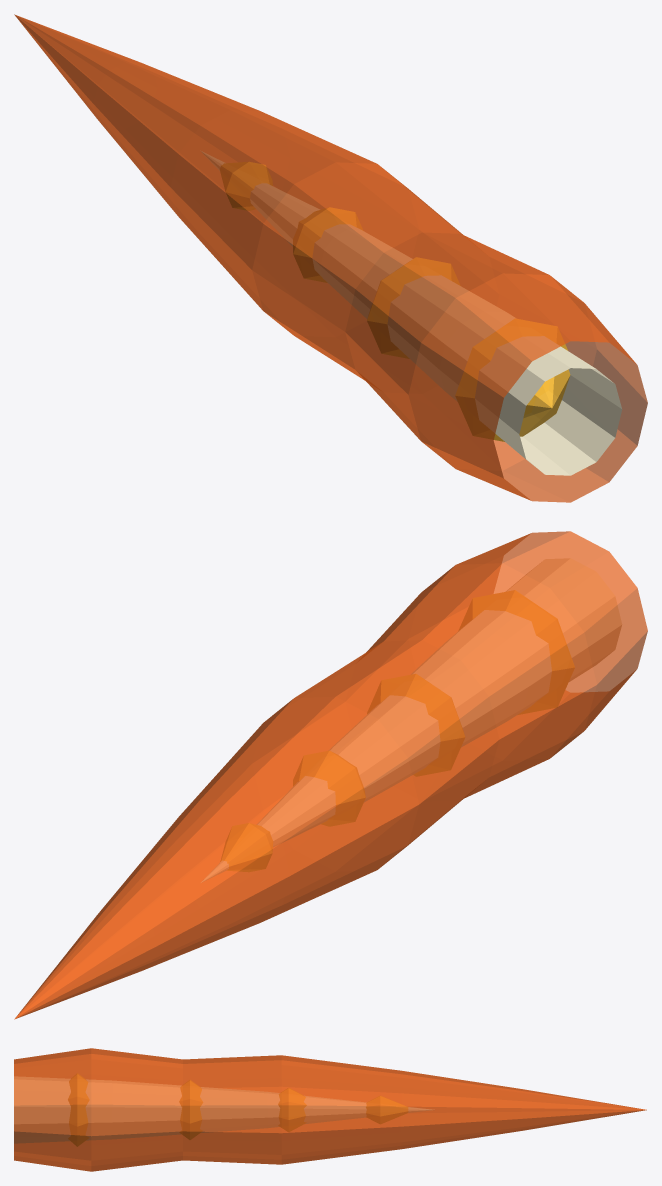
File: missile_thruster_vfx_prefab.obj
3 renders of one model, top to bottom at view 1: azimuth 30°, elevation 25°; view 2: azimuth 150°, elevation 25°; view 3: azimuth 270°, elevation 25°, orthographic. The views are drawn at different scales.
Visible parts, largest first — view 1: outer_plume, plume_core, shock_diamonds; view 2: outer_plume, plume_core, shock_diamonds; view 3: outer_plume, plume_core, shock_diamonds.
Boxes of the visible parts, bbox=[...] form: outer_plume: bbox=[14, 14, 647, 502]; plume_core: bbox=[201, 151, 622, 475]; shock_diamonds: bbox=[220, 162, 570, 441]; outer_plume: bbox=[14, 531, 647, 1019]; plume_core: bbox=[201, 558, 621, 882]; shock_diamonds: bbox=[220, 590, 574, 871]; outer_plume: bbox=[14, 1048, 646, 1171]; plume_core: bbox=[14, 1076, 431, 1143]; shock_diamonds: bbox=[68, 1073, 407, 1146].
Size of the model in its own units: 0.88 by 0.88 by 4.5.
